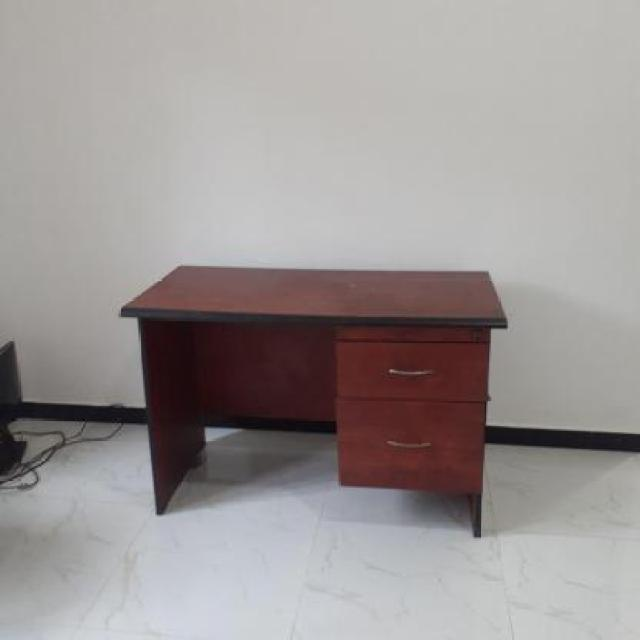tables: (117, 263, 508, 537)
